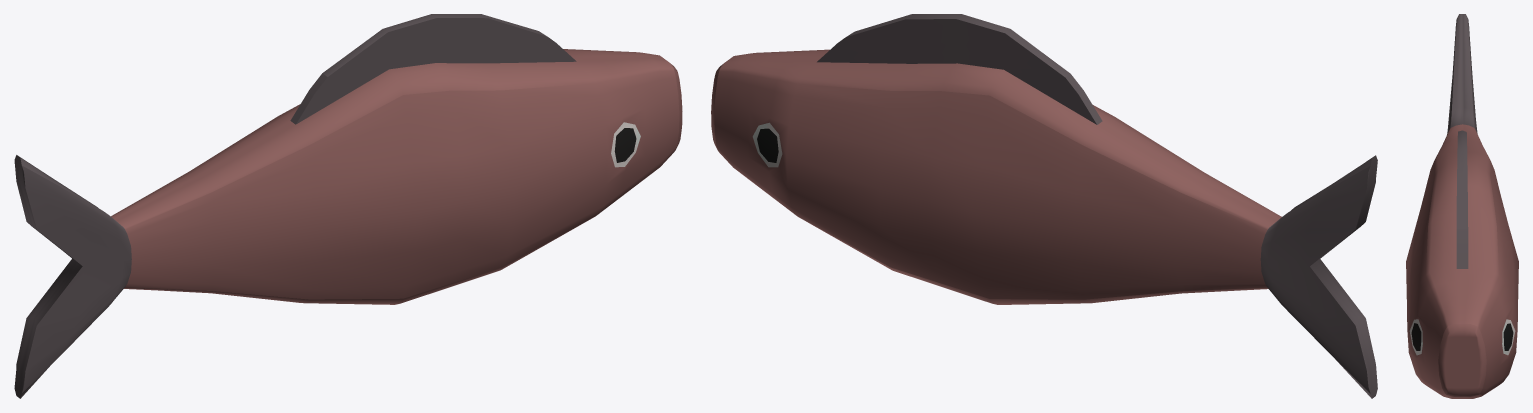
The model's file is atoll_fish_1.fbx.
3 views of the same model, side by side, from view 1: azimuth 30°, elevation 25°; view 2: azimuth 150°, elevation 25°; view 3: azimuth 270°, elevation 25° (orthographic). The views are drawn at different scales.
Visible parts, largest first — view 1: fish1; view 2: fish1; view 3: fish1.
Part boxes in pixels (x1,y1,x2,y2): fish1: (14, 14, 682, 398); fish1: (711, 14, 1377, 398); fish1: (1406, 14, 1518, 398).
Bounding box in the file's own units: 0.154 × 0.0634 × 0.028.
